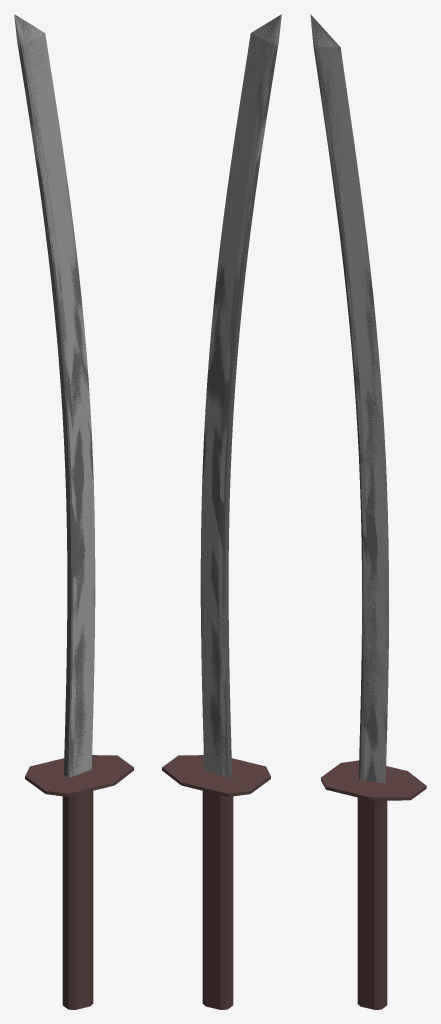
File: katana.fbx
3 renders of one model, left to right at view 1: azimuth 30°, elevation 25°; view 2: azimuth 150°, elevation 25°; view 3: azimuth 330°, elevation 25°, orthographic. The views are drawn at different scales.
Visible parts, largest first — view 1: pCube3; view 2: pCube3; view 3: pCube3.
Boxes of the visible parts, <box> form: pCube3: <box>14,14,133,1009</box>; pCube3: <box>162,14,281,1009</box>; pCube3: <box>310,14,426,1009</box>.
Size of the model in its own units: 0.2182 by 1.88 by 0.127.
